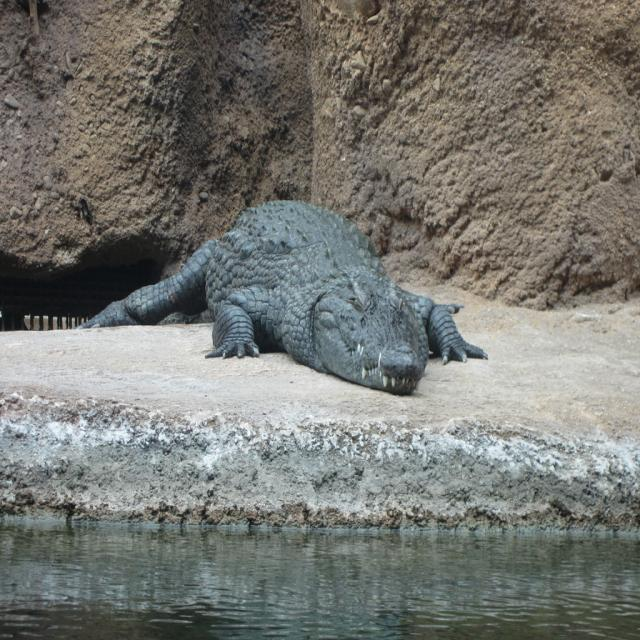crocodile: (70, 183, 501, 425)
